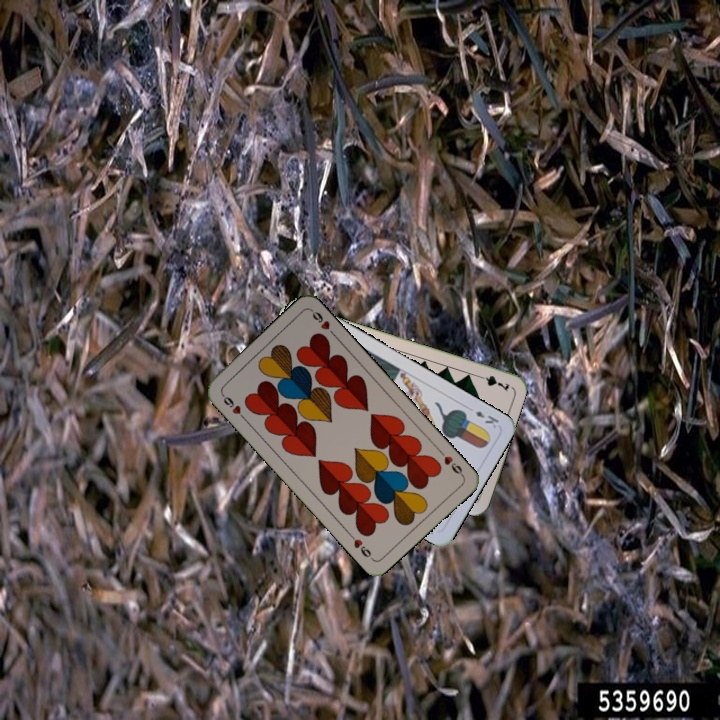EK: (471, 407, 502, 431)
G7: (473, 370, 512, 394)
H9: (217, 389, 248, 423), (435, 446, 466, 479)
